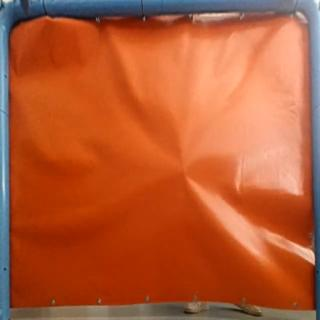Hit-hRxx: (177, 164, 190, 178)
